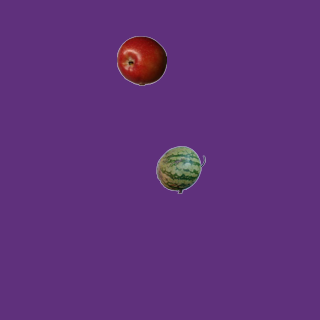Apple Braeburn: (116, 35, 166, 85)
Watermelon: (155, 144, 205, 194)
